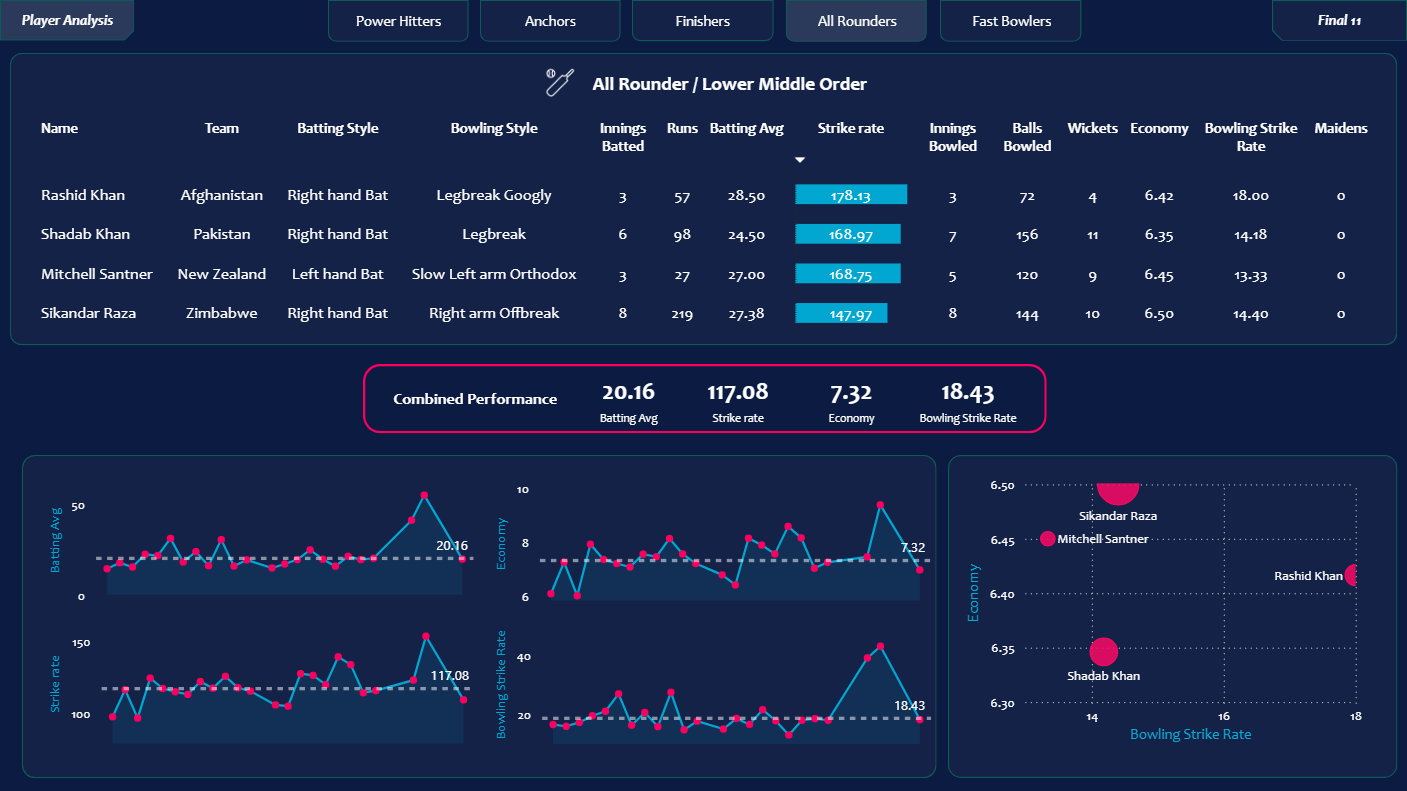

The dashboard page shown, as its layout file describes it:
{"tool":"powerbi","page":{"name":"All Rounders / Lower Middle Order","canvas":[1280,720],"ordinal":3},"visuals":[{"type":"tableEx","fields":{"Values":["dim_player.name","dim_player.team","dim_player.Batting Style","dim_player.Bowling Style","Key_Measures.Total Matches","Key_Measures.Total Runs","Key_Measures.Total Innings Bowled","Key_Measures.Strike Rate","Key_Measures.Bat Avg","Key_Measures.Wickets","Key_Measures.Economy","Key_Measures.Balls Bowled"]},"box":[0,108,1250.8,181.9],"z":0},{"type":"slicer","fields":{"Values":["dim_match_summary.Stage"]},"box":[1095.2,6.8,155.6,86.6],"z":1},{"type":"scatterChart","fields":{"Category":["dim_player.name"],"X":["Key_Measures.Bowling Strike Rate"],"Series":["dim_player.name"],"Y":["Key_Measures.Economy"],"Size":["Key_Measures.Total Runs"]},"box":[20.4,359.9,585.5,359.9],"z":2},{"type":"card","fields":{"Values":["Key_Measures.Economy"]},"box":[1009.6,557.3,200.4,138.1],"z":3},{"type":"card","fields":{"Values":["Key_Measures.Bowling Strike Rate"]},"box":[701.3,557.3,168.3,138.1],"z":4},{"type":"card","fields":{"Values":["Key_Measures.Strike rate"]},"box":[994,371.6,200.4,137.1],"z":5},{"type":"card","fields":{"Values":["Key_Measures.Bat Avg"]},"box":[699.3,371.6,173.1,152.7],"z":6}]}

Visuals, with their boxes in screenshot pixels (x1, y1, x2, y2), scaled from the page's 1280x720 canvas onto the 1407x791 screenshot:
tableEx - dim_player.name x dim_player.team: box=[0, 119, 1375, 318]
slicer - dim_match_summary.Stage: box=[1204, 7, 1375, 103]
scatterChart - dim_player.name x Key_Measures.Bowling Strike Rate: box=[22, 395, 666, 790]
card - Key_Measures.Economy: box=[1110, 612, 1330, 764]
card - Key_Measures.Bowling Strike Rate: box=[771, 612, 956, 764]
card - Key_Measures.Strike rate: box=[1093, 408, 1313, 559]
card - Key_Measures.Bat Avg: box=[769, 408, 959, 576]
